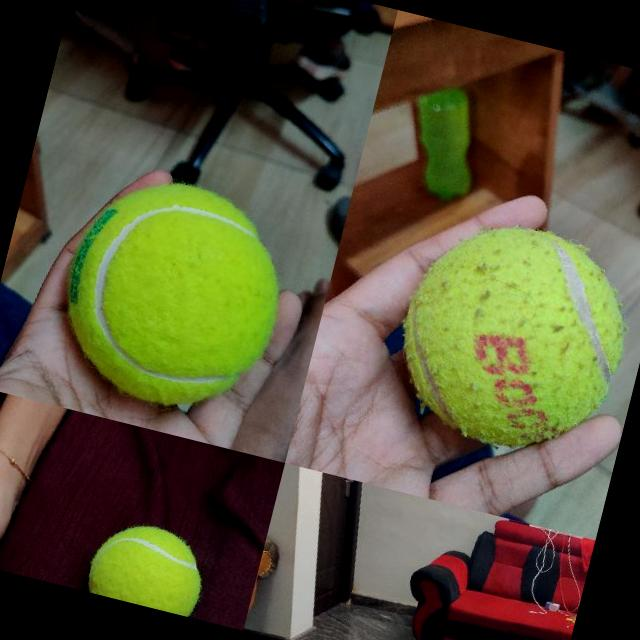tennis-ball: (42, 161, 302, 426), (381, 204, 640, 467), (84, 514, 212, 617)
